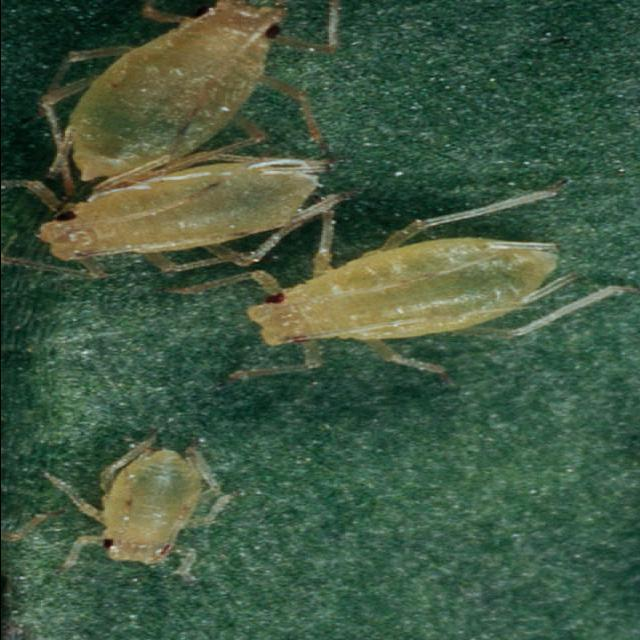aphid: (177, 218, 610, 398), (11, 140, 340, 284), (32, 433, 248, 597)
